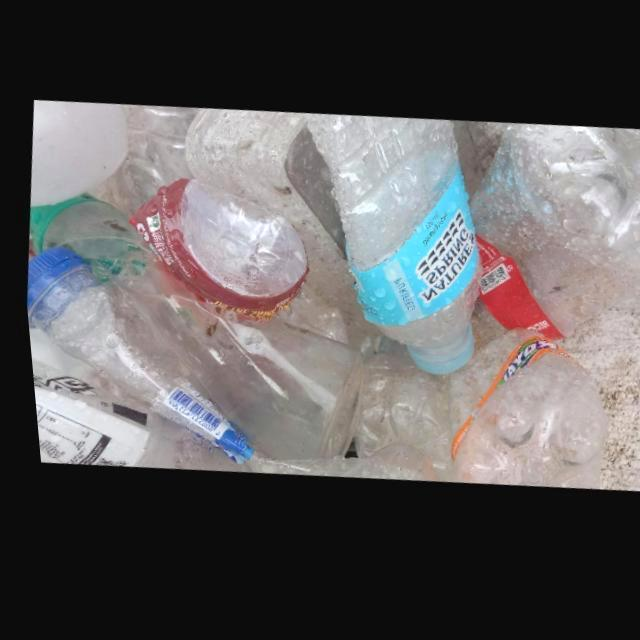plastic_bottle: (24, 195, 357, 476), (21, 247, 314, 480), (299, 118, 477, 381), (464, 132, 640, 349), (123, 179, 304, 326), (345, 341, 442, 479)
